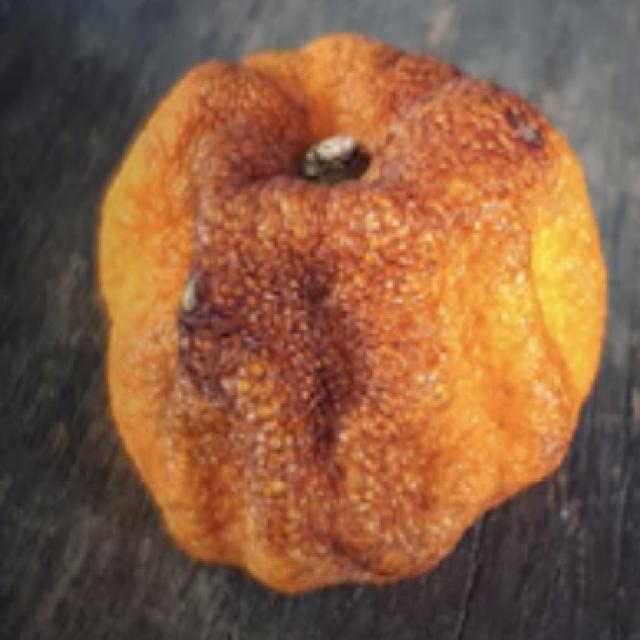sangat_busuk: (90, 34, 611, 583)
